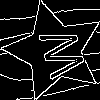W: (29, 25, 87, 83)
